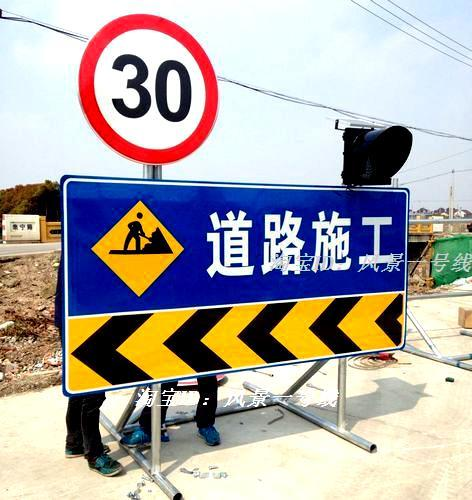sign: (60, 180, 405, 394)
